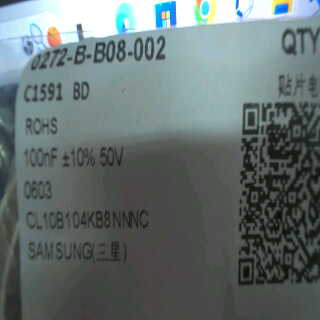100nF: (20, 144, 63, 172)
